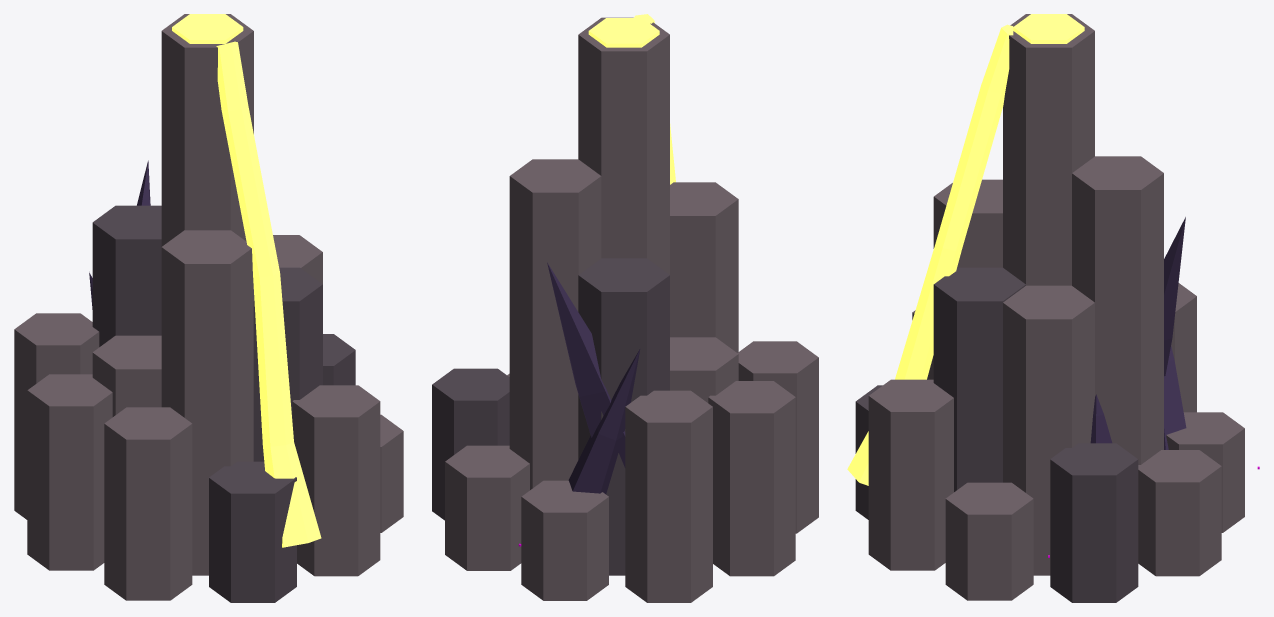
File: volcano_spire.fbx
3 views of the same model, side by side, from view 1: azimuth 30°, elevation 25°; view 2: azimuth 150°, elevation 25°; view 3: azimuth 270°, elevation 25° (orthographic).
Visible parts, largest first — view 1: Rock_volcano_spire, RockDark_volcano_spire, Lava_volcano_spire; view 2: Rock_volcano_spire, RockDark_volcano_spire, Obsidian_volcano_spire, Lava_volcano_spire; view 3: Rock_volcano_spire, RockDark_volcano_spire, Lava_volcano_spire, Obsidian_volcano_spire.
Part boxes in pixels (bbox=[...]): Rock_volcano_spire: bbox=[14, 14, 403, 600]; RockDark_volcano_spire: bbox=[92, 205, 355, 602]; Lava_volcano_spire: bbox=[172, 14, 321, 547]; Rock_volcano_spire: bbox=[445, 17, 818, 602]; RockDark_volcano_spire: bbox=[432, 258, 669, 575]; Obsidian_volcano_spire: bbox=[547, 262, 640, 494]; Lava_volcano_spire: bbox=[588, 14, 675, 184]; Rock_volcano_spire: bbox=[868, 14, 1244, 600]; RockDark_volcano_spire: bbox=[855, 267, 1138, 602]; Lava_volcano_spire: bbox=[847, 14, 1084, 485]; Obsidian_volcano_spire: bbox=[1090, 217, 1186, 449].
Bounding box in the file's own units: 38.32 × 52.4 × 39.34.
